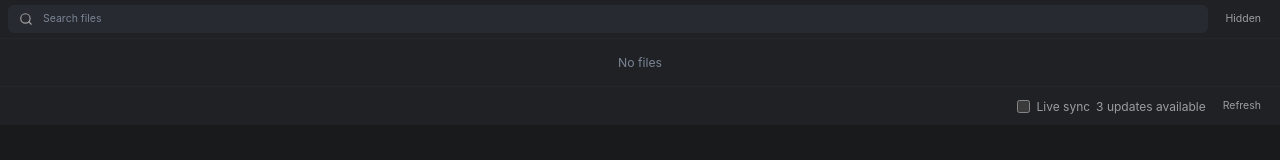
Scenario: FileExplorer › drains pending changes by refreshing while live sync remains off
The image size is (1280, 160).
Expected: the text "3 updates available" is shown, [1096,98,1206,114]
Expected: the text "src" is not shown
Click the button "Refresh": (1242, 106) [1212,92,1272,120]
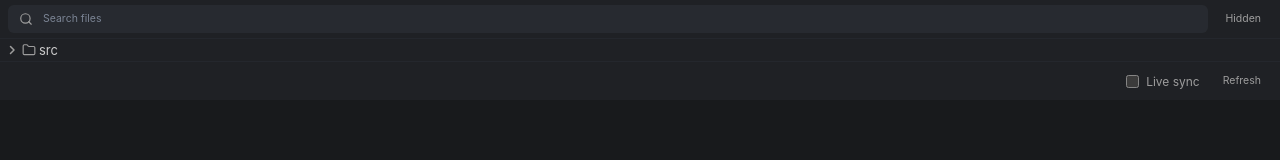
Expected: the checkbox labelled "Live sync" is not checked, [1126,74,1139,88]
Now the text "3 updates available" is gone
Now the text "src" is shown, box [39,42,58,58]
